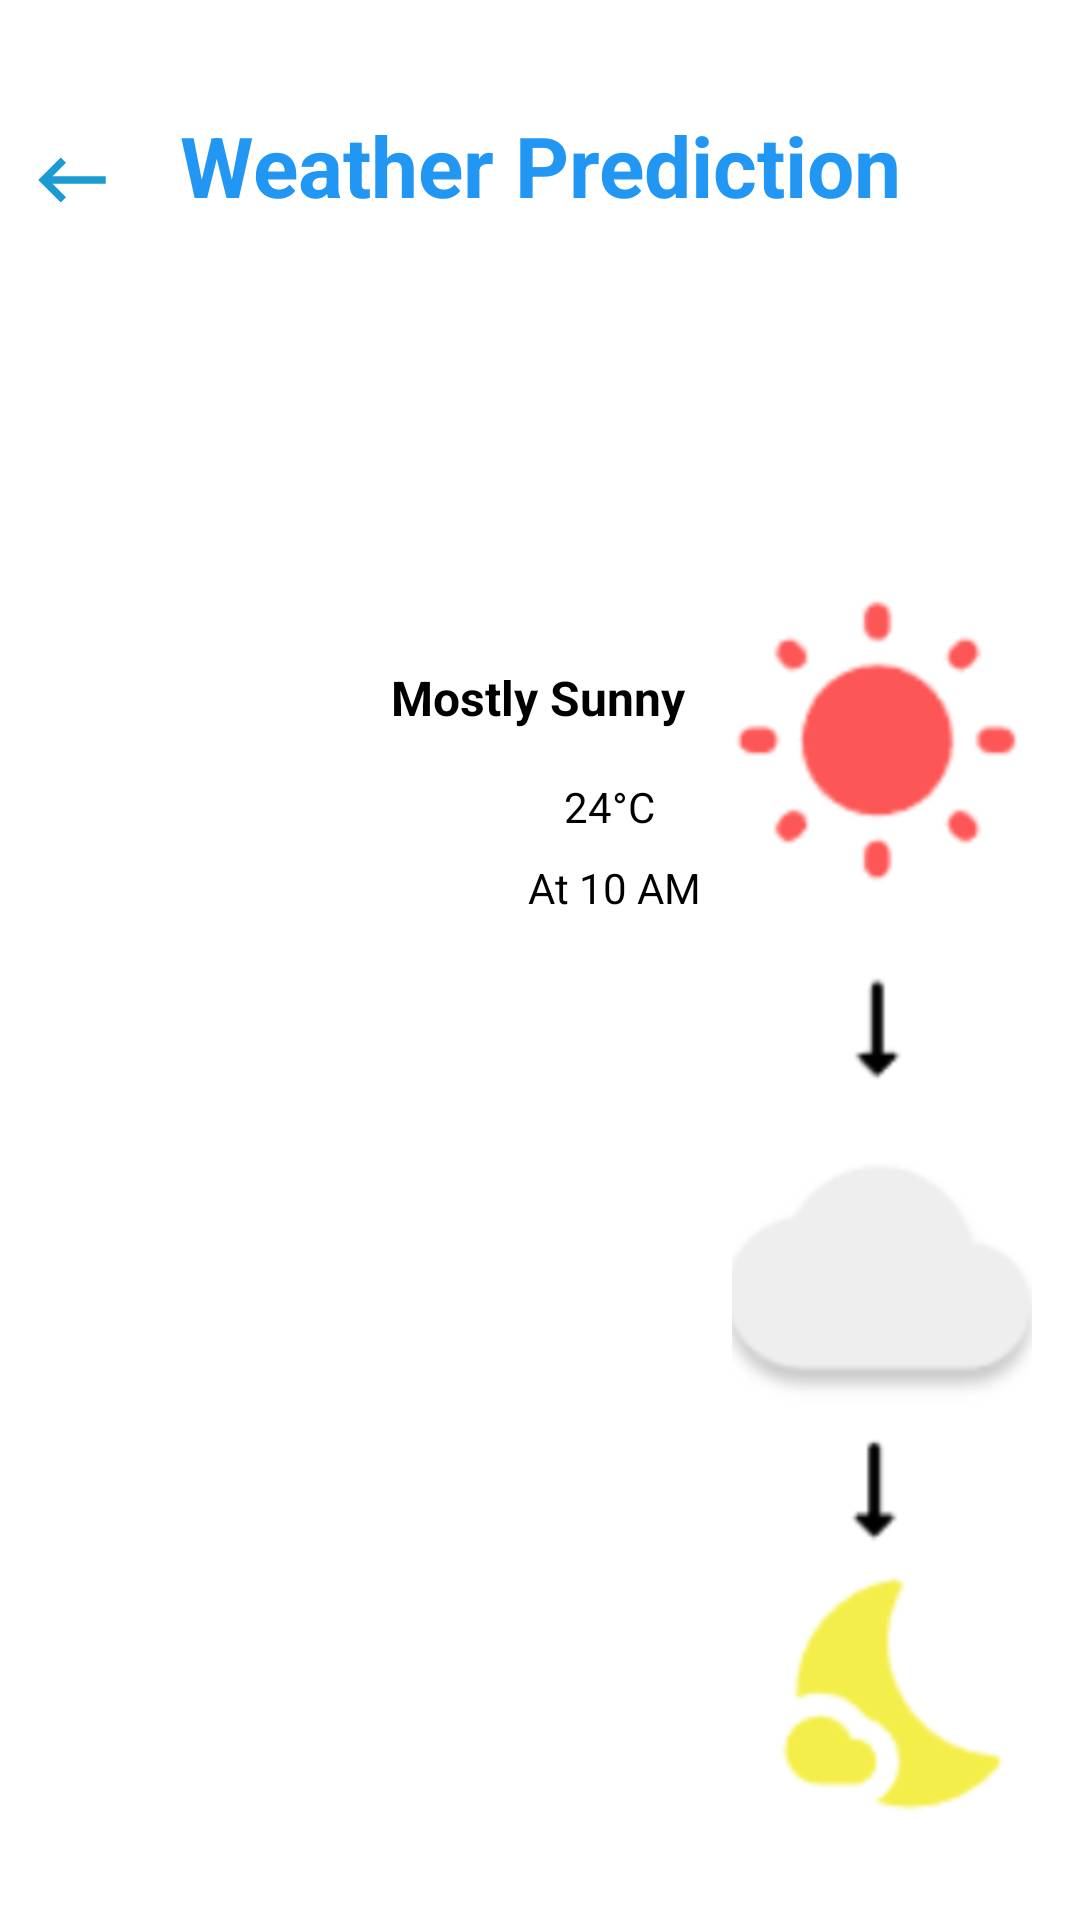

Icons on this 1080px x 1920px Android screen, each with its box as {"left": x1, "top": y1, "right": x2, "bottom": y2}:
keyboard backspace: {"left": 38, "top": 157, "right": 106, "bottom": 203}
